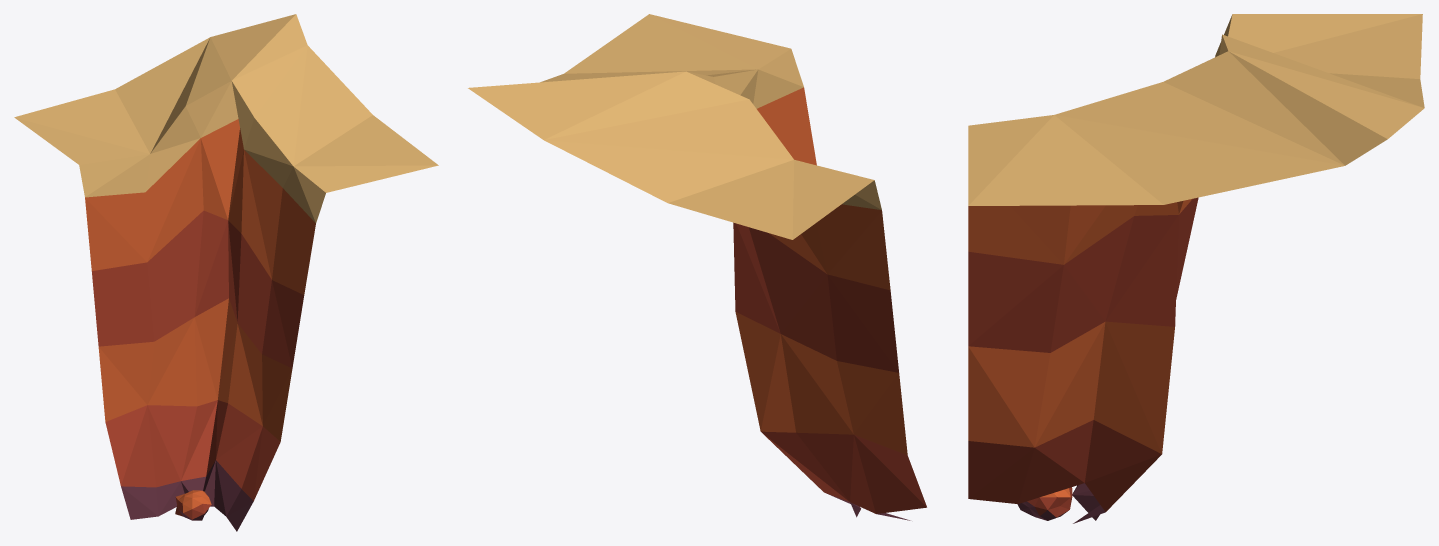
The model's file is Mtn_Corner_In.fbx.
The picture shows the model from 3 angles, left to right: view 1: azimuth 30°, elevation 25°; view 2: azimuth 150°, elevation 25°; view 3: azimuth 270°, elevation 25°; orthographic projection. The views are drawn at different scales.
Visible parts, largest first — view 1: Mtn_Corner_In; view 2: Mtn_Corner_In; view 3: Mtn_Corner_In.
Part boxes in pixels (left/top/right/bottom): Mtn_Corner_In: left=14, top=14, right=438, bottom=531; Mtn_Corner_In: left=468, top=14, right=926, bottom=520; Mtn_Corner_In: left=968, top=14, right=1424, bottom=523.
Bounding box in the file's own units: 16.06 × 20.74 × 16.07.
